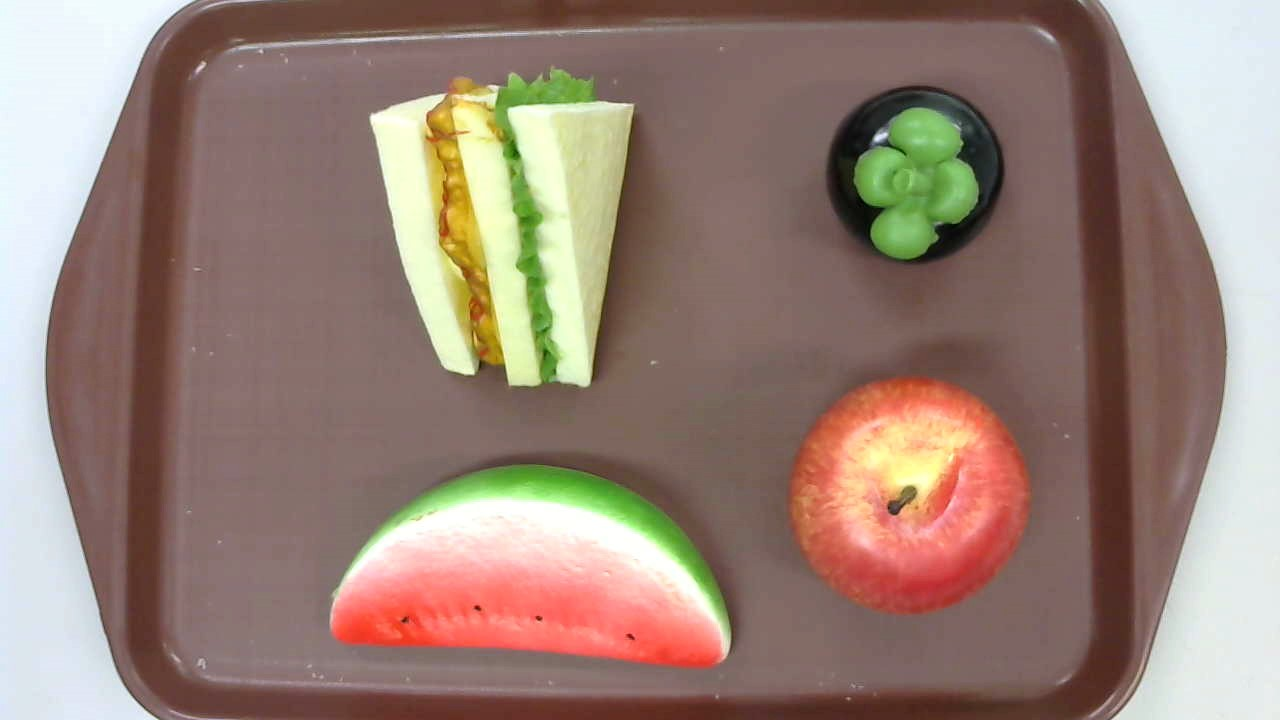mangosteen: (827, 86, 1003, 266)
red apple: (789, 377, 1031, 616)
sandwich: (367, 66, 635, 391)
water melon: (328, 462, 732, 668)
